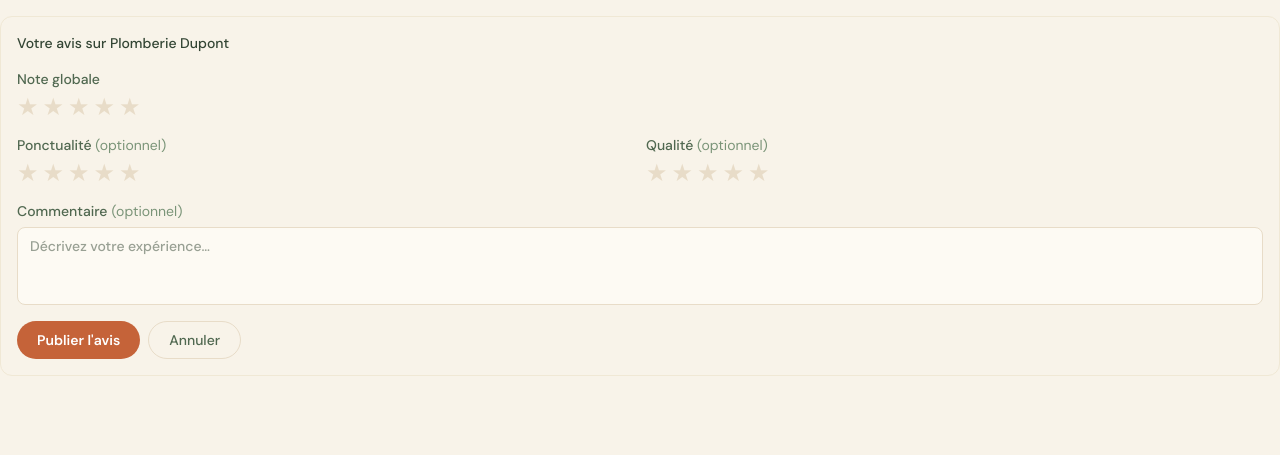
Test: ReviewForm › shows a validation error when submitting without an overall rating
Click the button "Publier l'avis": (79, 340) [17, 321, 140, 359]
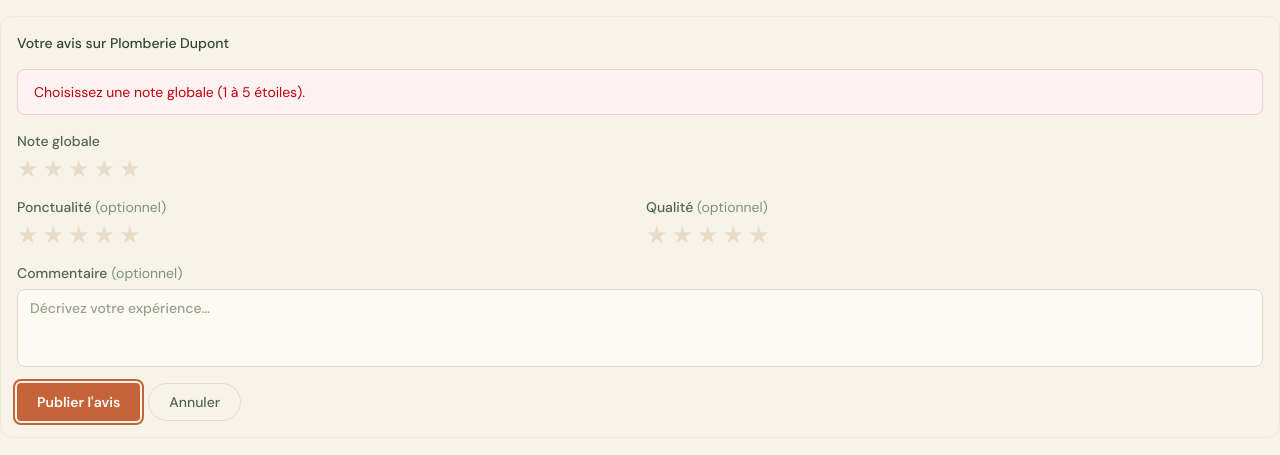
expect the text "Choisissez une note globale (1 à 5 étoiles)." is shown: met, box [17, 69, 1263, 115]
